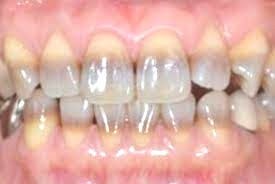Caries: (23, 105, 232, 147), (6, 49, 236, 79)
